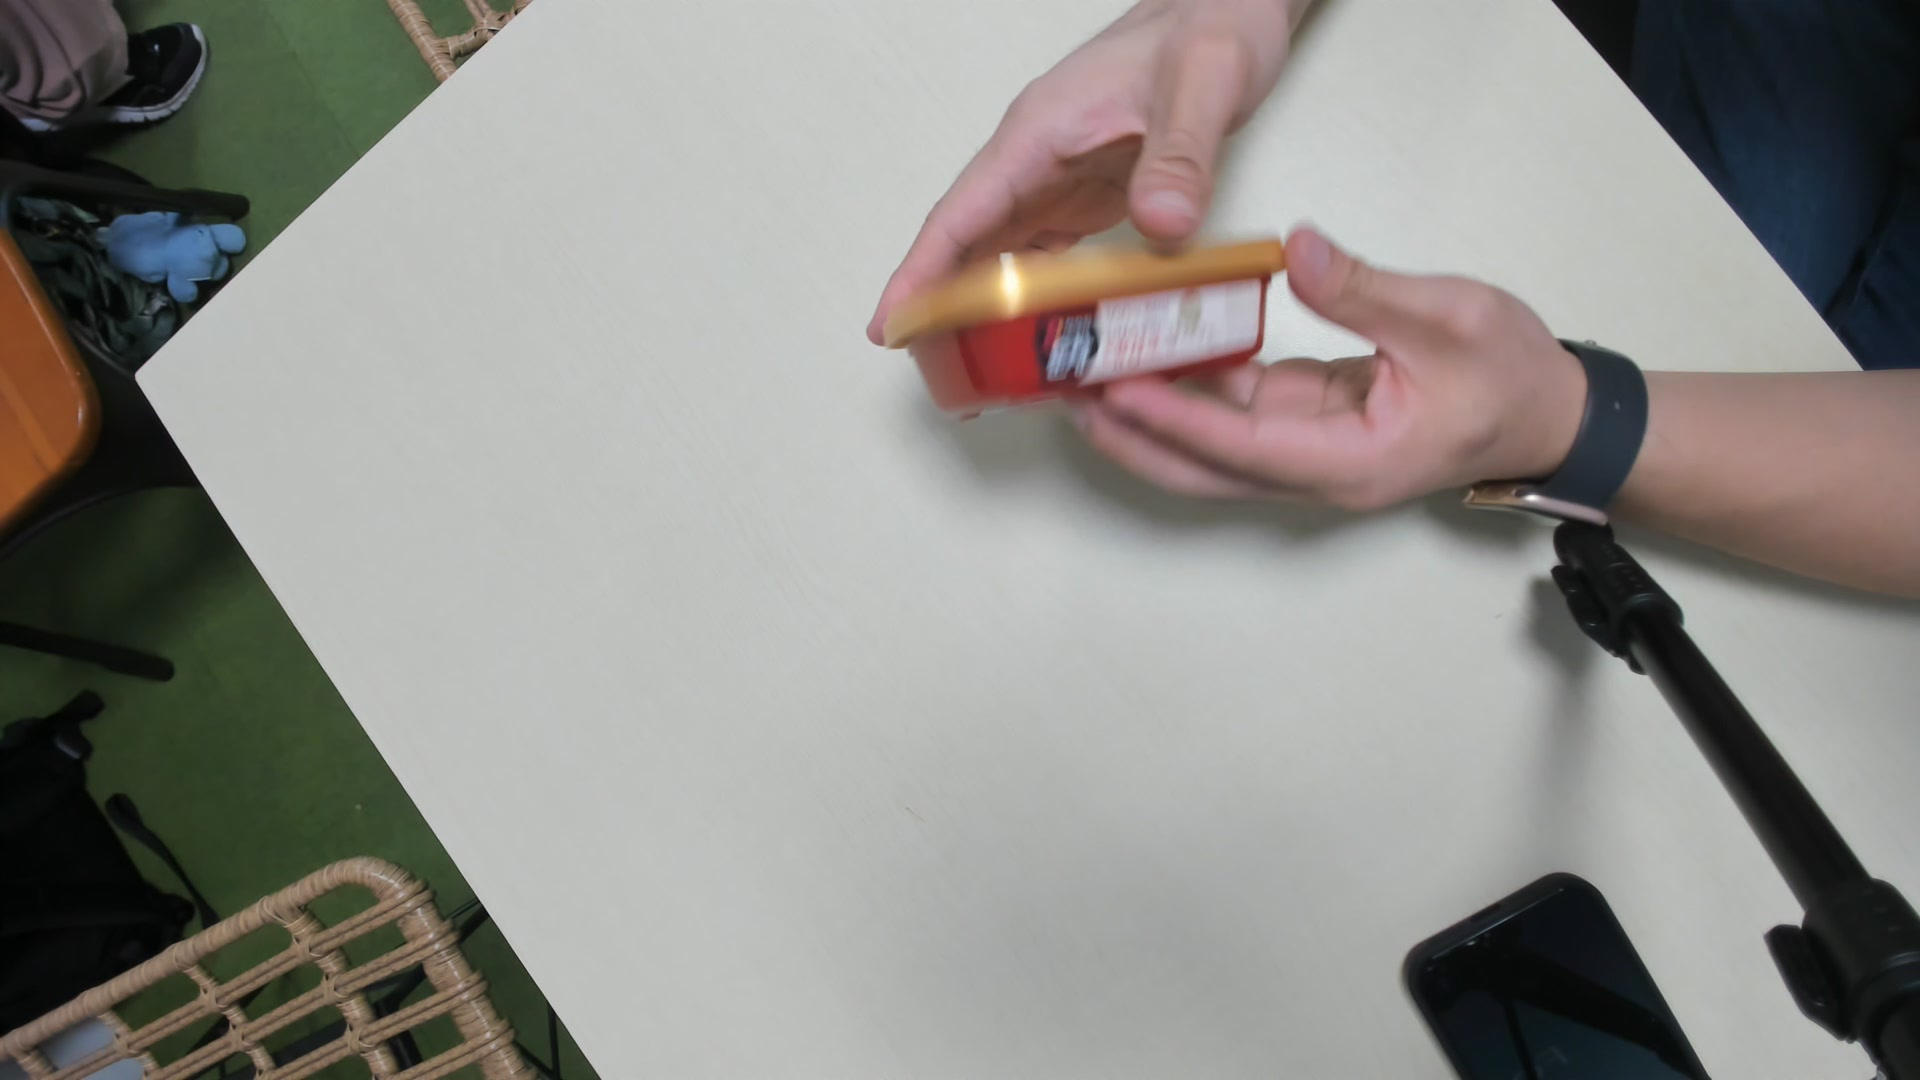OtherSauceDressing_200-299g_NonHalal_NonHealthy: (880, 245, 1291, 400)
